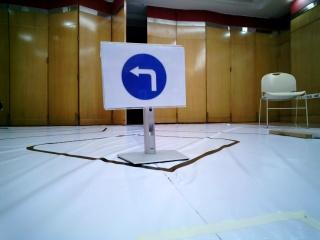left: (106, 44, 183, 106)
